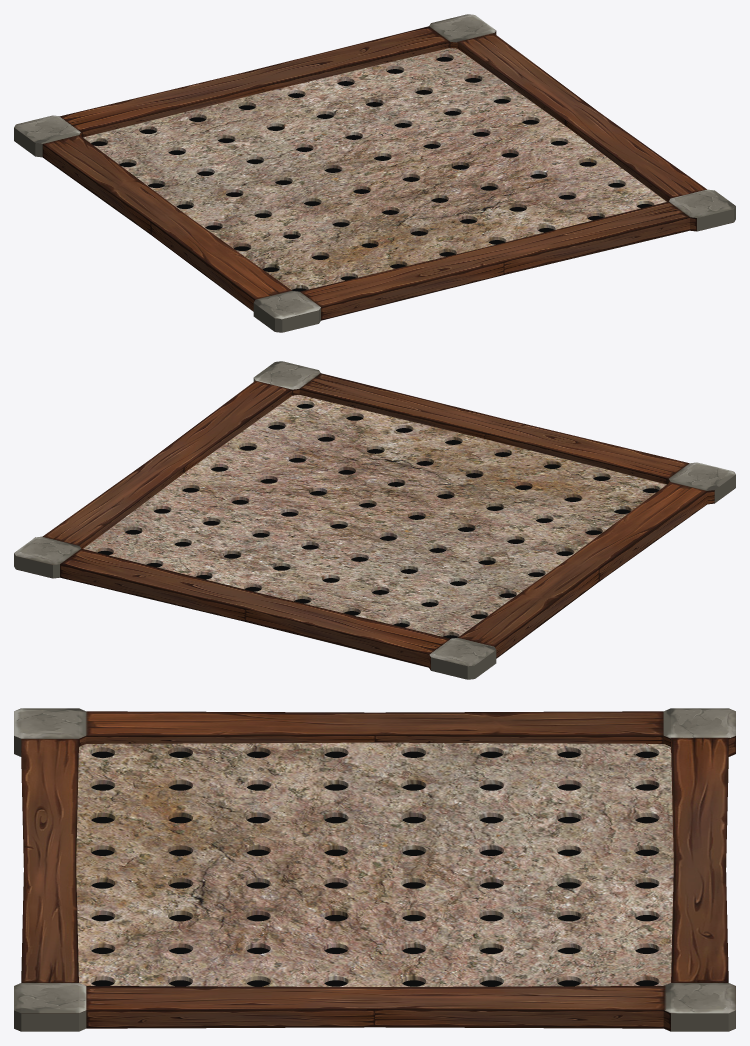
The model's file is Floortower.fbx.
3 views of the same model, one above another, from view 1: azimuth 30°, elevation 25°; view 2: azimuth 150°, elevation 25°; view 3: azimuth 270°, elevation 25° (orthographic). The views are drawn at different scales.
Visible parts, largest first — view 1: Plane, Base, Plane.001; view 2: Plane, Base, Plane.001; view 3: Plane, Base, Plane.001.
Boxes of the visible parts, bbox=[...] form: Plane: bbox=[83, 48, 666, 289]; Base: bbox=[14, 14, 735, 332]; Plane.001: bbox=[91, 57, 652, 291]; Plane: bbox=[83, 395, 666, 636]; Base: bbox=[14, 361, 735, 679]; Plane.001: bbox=[97, 404, 658, 638]; Plane: bbox=[76, 742, 673, 986]; Base: bbox=[14, 708, 735, 1031]; Plane.001: bbox=[91, 751, 658, 986].
Size of the model in its own units: 10 by 0.3 by 10.
